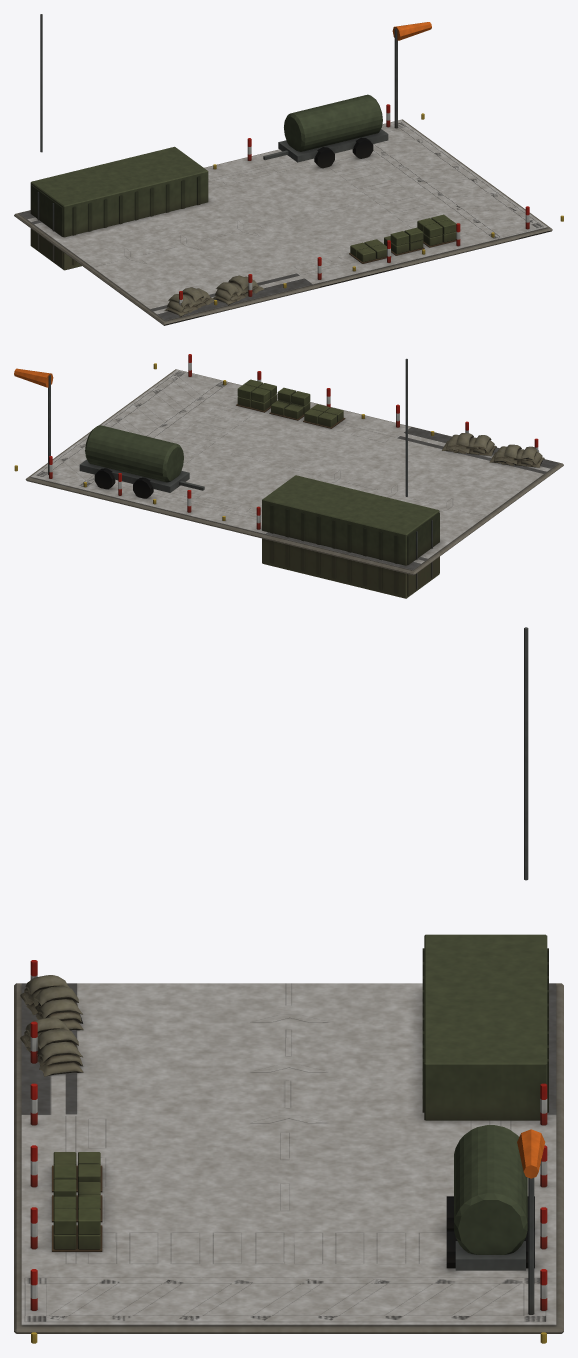
The model's file is afld.glb.
3 views of the same model, one above another, from view 1: azimuth 30°, elevation 25°; view 2: azimuth 150°, elevation 25°; view 3: azimuth 270°, elevation 25° (orthographic). The views are drawn at different scales.
Parts seen in each view (by area): view 1: hull; view 2: hull; view 3: hull.
Part boxes in pixels (x1,y1,x2,y2): hull: (14,14,563,325); hull: (14,354,563,598); hull: (14,627,563,1343).
Bounding box in the file's own units: 17.05 × 9.38 × 10.9.
Materials: 1 (1 with a texture image).
